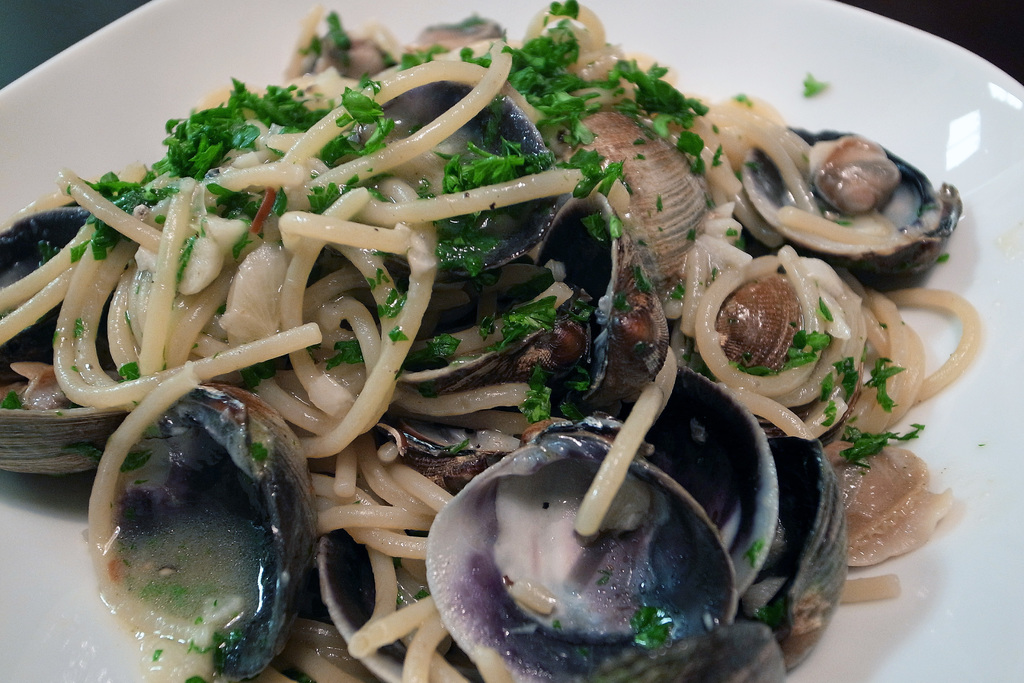pasta: (0, 0, 983, 682)
